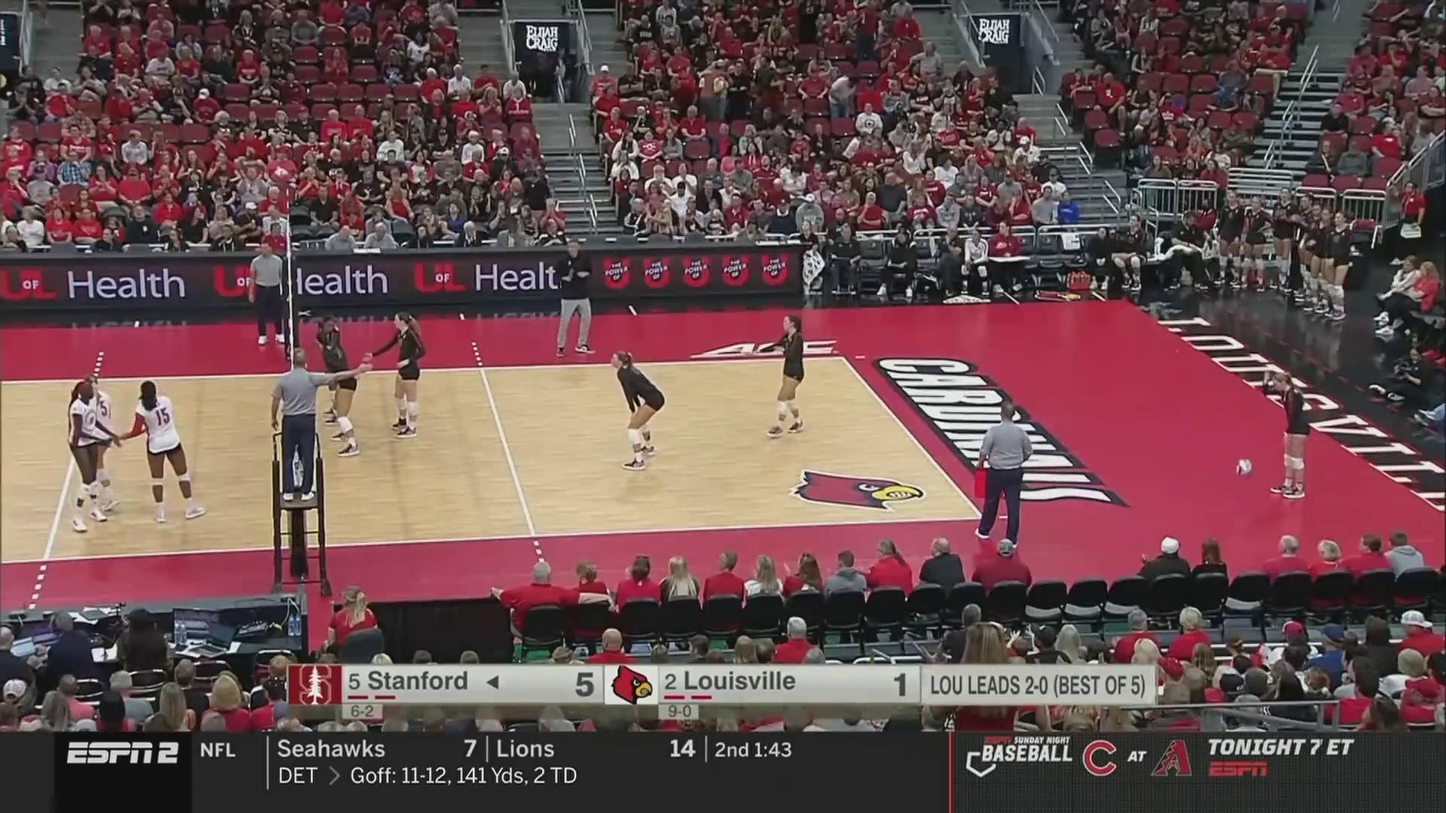player: (129, 379, 208, 522), (756, 311, 813, 437), (68, 380, 111, 534), (613, 352, 668, 468), (77, 375, 123, 513), (1261, 370, 1310, 499), (380, 312, 428, 440), (316, 328, 361, 458), (315, 312, 350, 425)
refree: (273, 347, 331, 501), (975, 401, 1034, 549), (249, 244, 290, 348)
